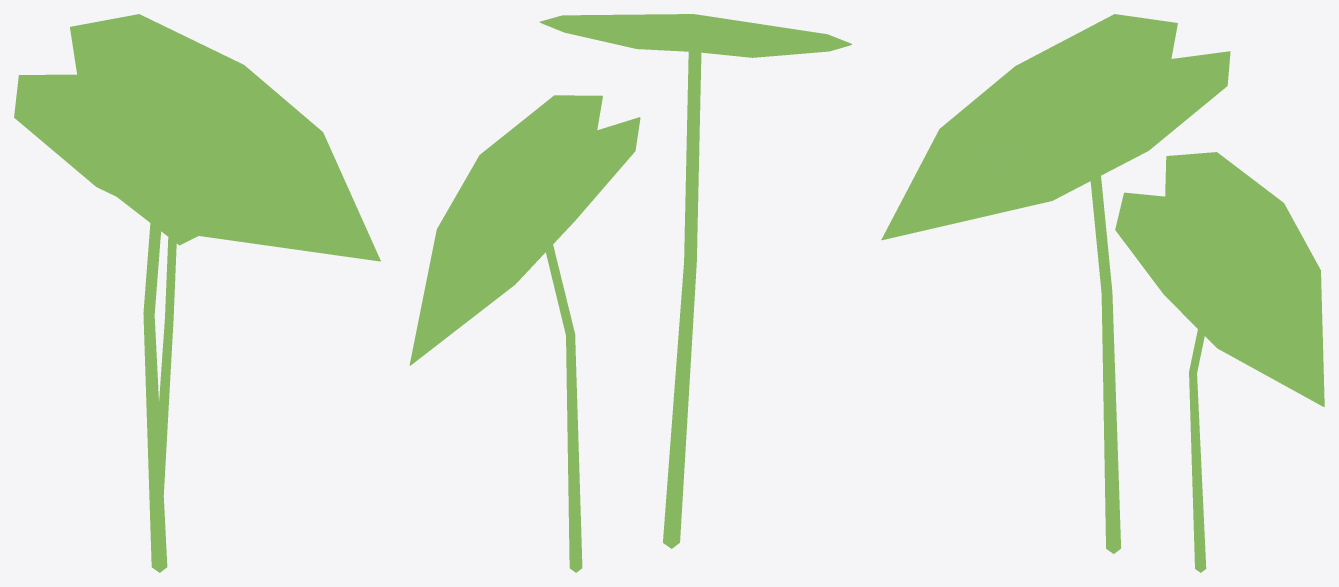
Rendered from Plant_d_TwoS_06.fbx.
The picture shows the model from 3 angles, left to right: view 1: azimuth 30°, elevation 25°; view 2: azimuth 150°, elevation 25°; view 3: azimuth 270°, elevation 25°; orthographic projection. The views are drawn at different scales.
Visible parts, largest first — view 1: Plant_d_TwoS_06; view 2: Plant_d_TwoS_06; view 3: Plant_d_TwoS_06.
Boxes of the visible parts, bbox=[...] form: Plant_d_TwoS_06: bbox=[14, 14, 380, 572]; Plant_d_TwoS_06: bbox=[409, 14, 851, 572]; Plant_d_TwoS_06: bbox=[881, 14, 1324, 572].
Bounding box in the file's own units: 0.5226 × 0.8256 × 0.6831.
